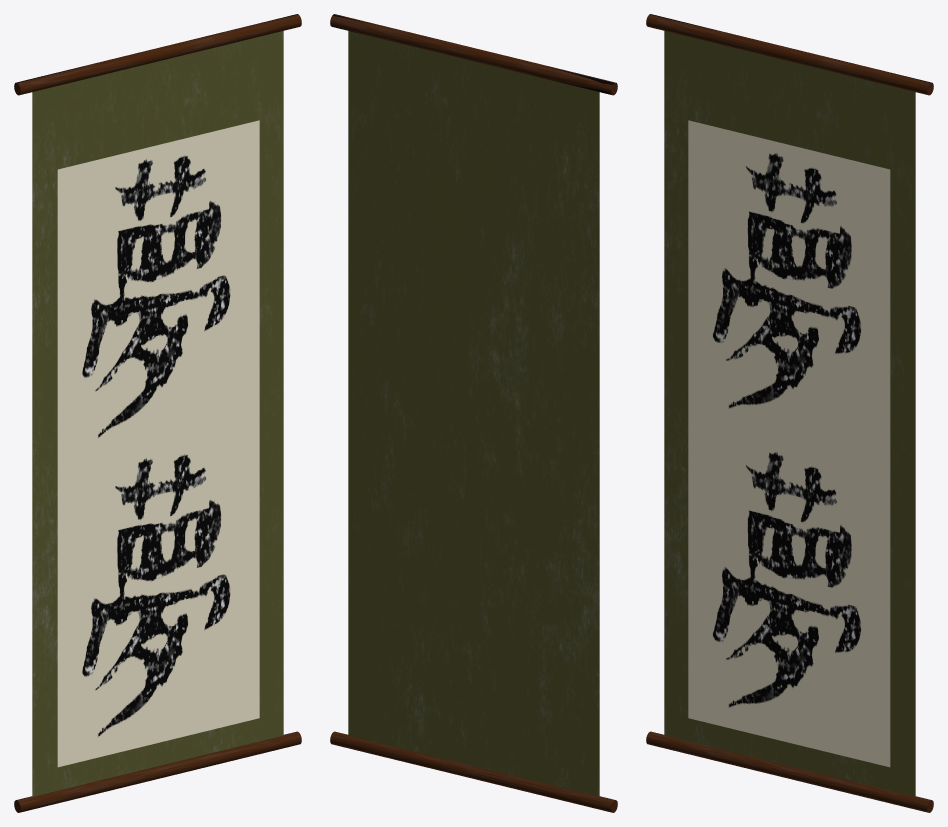
The model's file is scroll.glb.
3 views of the same model, side by side, from view 1: azimuth 30°, elevation 25°; view 2: azimuth 150°, elevation 25°; view 3: azimuth 330°, elevation 25° (orthographic).
Parts seen in each view (by area): view 1: back; view 2: back; view 3: back.
Part boxes in pixels (x1,y1,x2,y2): back: (14,14,301,812); back: (330,14,617,812); back: (646,14,933,812).
Size of the model in its own units: 4.92 by 12.2 by 0.2.
4 materials, 4 textured.
